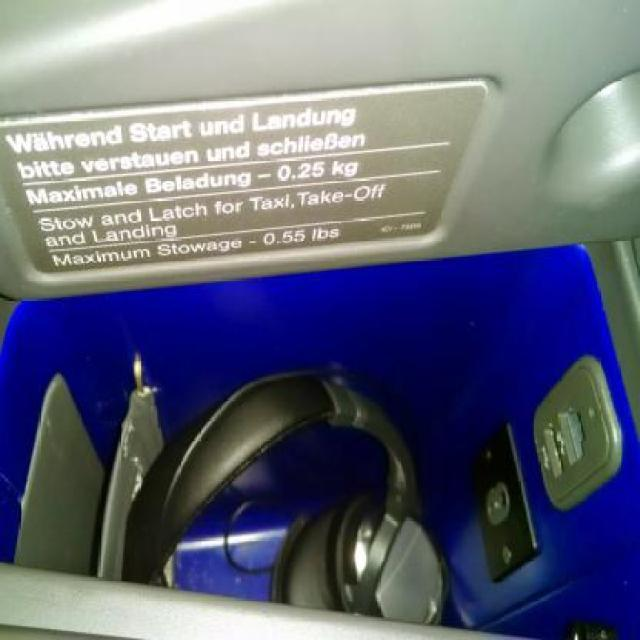earphone: (40, 385, 483, 608)
